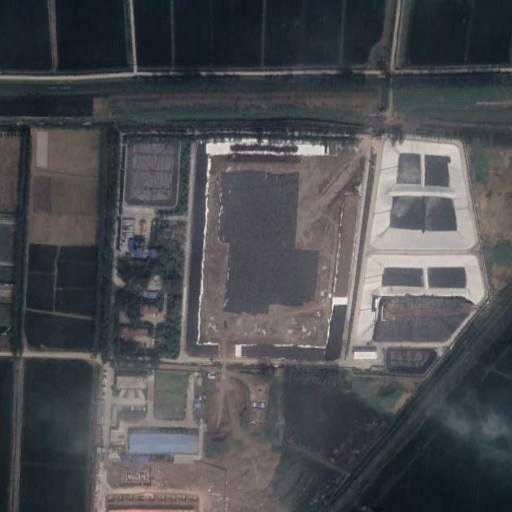lf: (186, 133, 481, 365)
